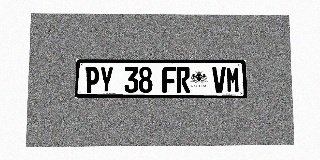3: (124, 67, 138, 93)
8: (139, 67, 152, 93)
F: (162, 67, 176, 93)
M: (226, 67, 240, 93)
P: (85, 67, 99, 93)
R: (176, 67, 190, 93)
V: (212, 67, 226, 93)
Y: (99, 67, 113, 93)
